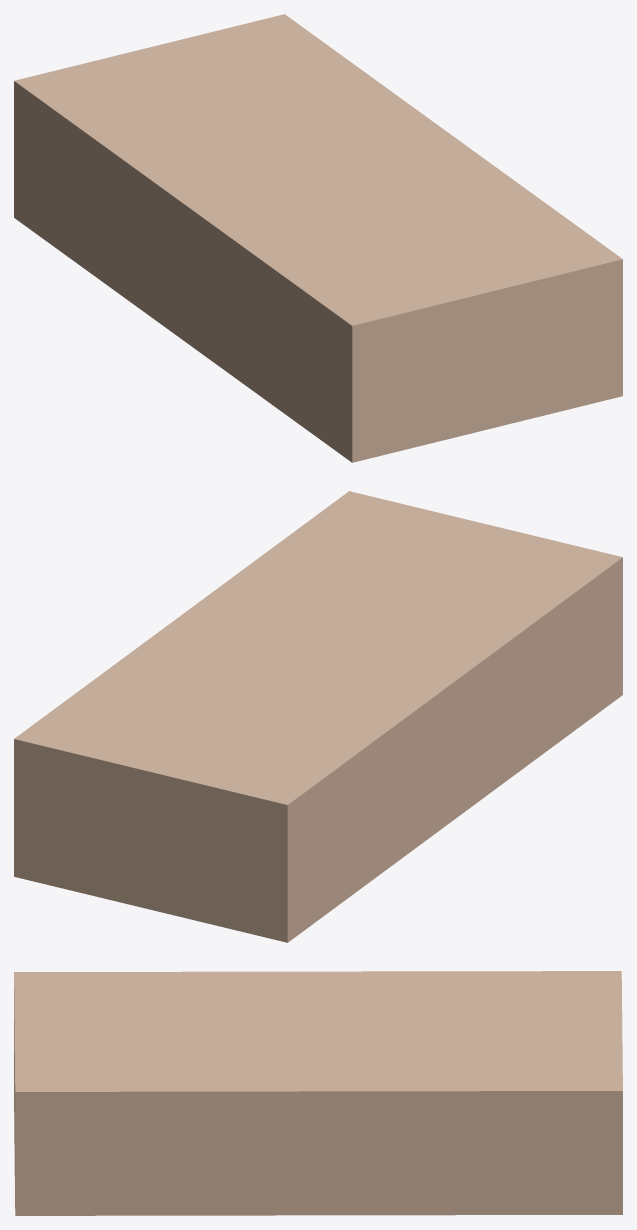
The picture shows the model from 3 angles, top to bottom: view 1: azimuth 30°, elevation 25°; view 2: azimuth 150°, elevation 25°; view 3: azimuth 270°, elevation 25°; orthographic projection. The views are drawn at different scales.
Parts seen in each view (by area): view 1: SM_Shape_Rectangle__02; view 2: SM_Shape_Rectangle__02; view 3: SM_Shape_Rectangle__02.
Boxes of the visible parts, bbox=[...] form: SM_Shape_Rectangle__02: bbox=[14, 14, 622, 462]; SM_Shape_Rectangle__02: bbox=[14, 491, 622, 942]; SM_Shape_Rectangle__02: bbox=[14, 971, 622, 1215].
Bounding box in the file's own units: 3.64 × 1.74 × 7.73.
